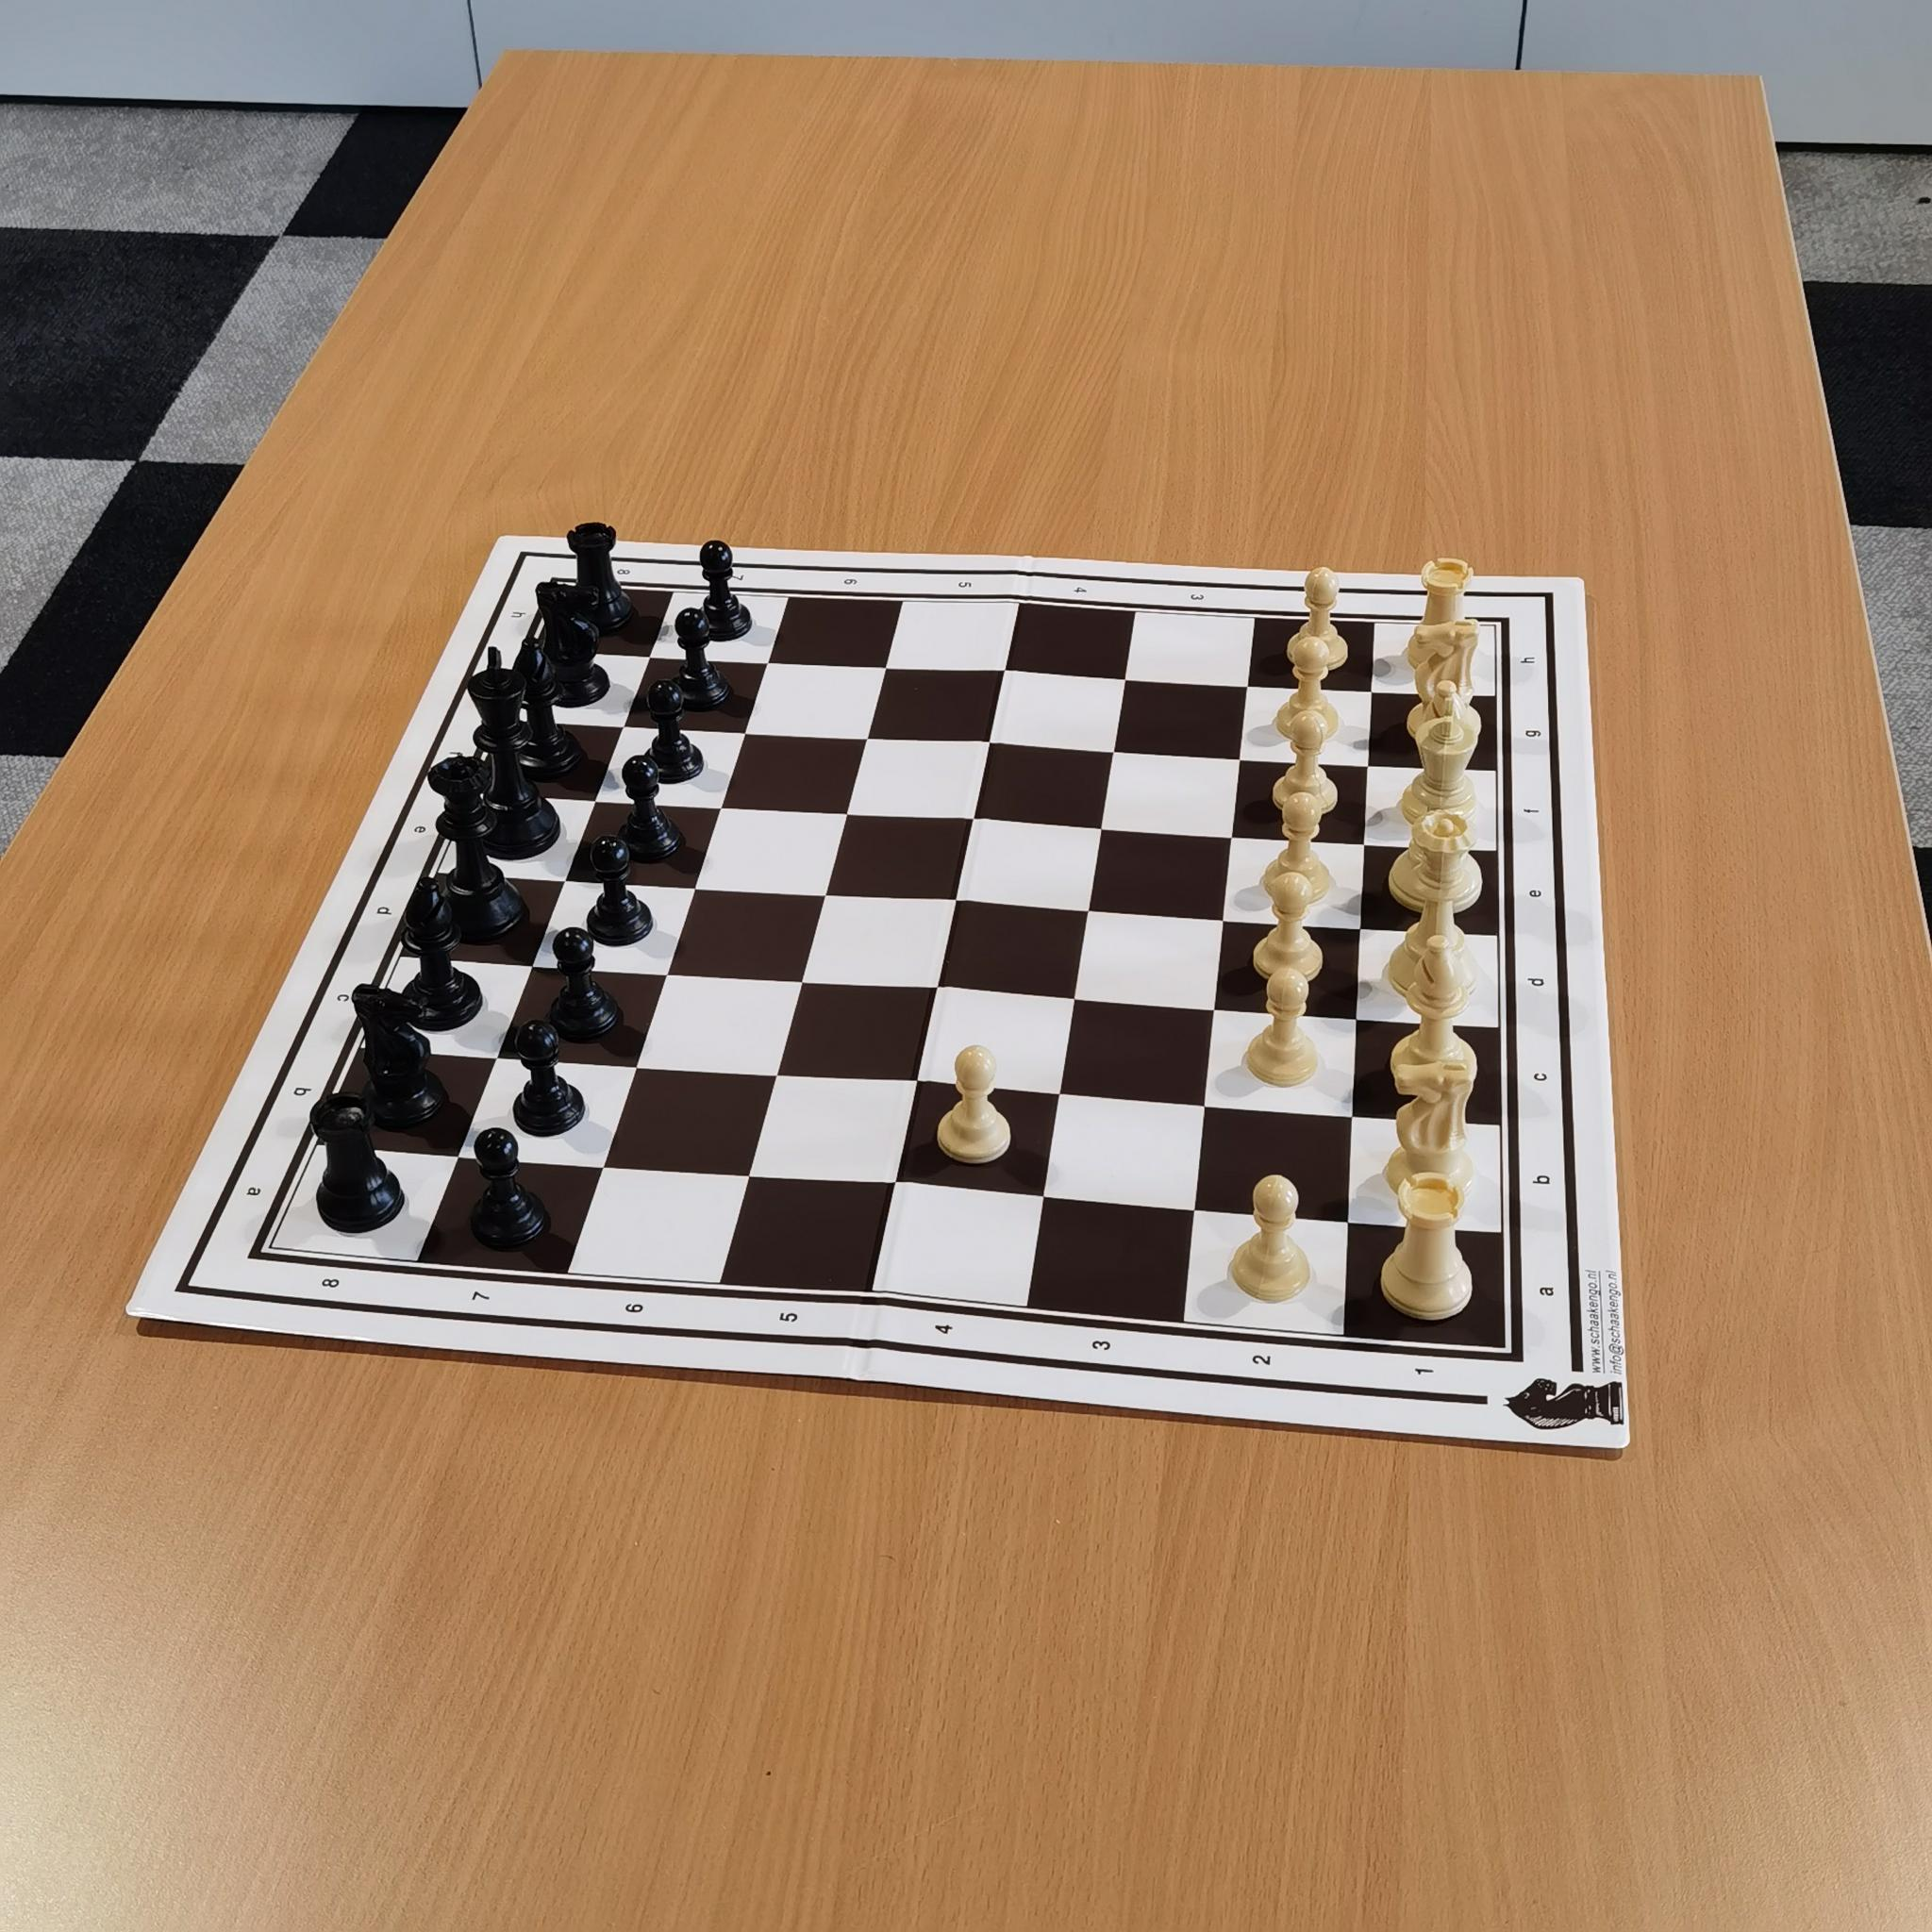corners: (1490, 1343, 1532, 1385), (536, 564, 580, 605), (237, 1238, 278, 1279), (1408, 1355, 1444, 1389), (1486, 612, 1522, 644)
eight: (310, 1263, 356, 1300), (609, 556, 642, 584)
one: (1415, 586, 1461, 619)
